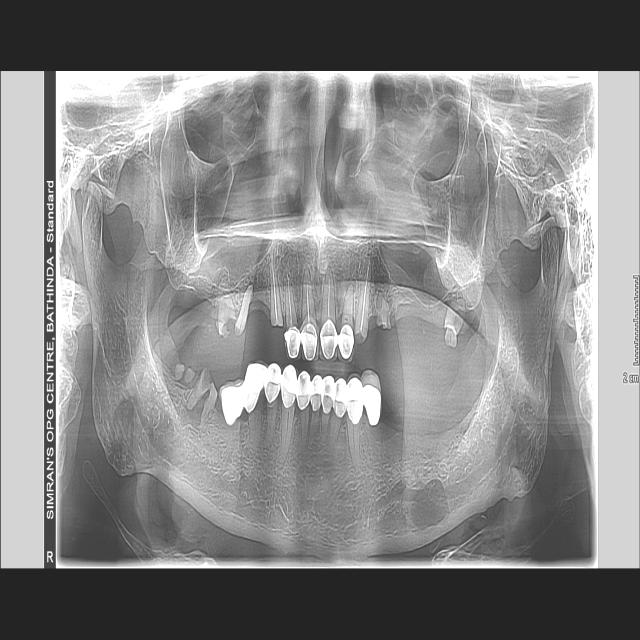Caries: (222, 318, 236, 339)
Crown: (362, 369, 382, 426), (244, 362, 266, 413), (220, 381, 245, 425), (347, 373, 363, 425), (320, 319, 338, 363), (264, 362, 282, 404), (281, 364, 297, 408), (302, 323, 319, 361), (338, 325, 354, 364), (296, 371, 311, 411), (284, 326, 301, 360), (321, 375, 335, 415), (334, 376, 346, 417), (310, 375, 322, 411)
Root Canal Treatment: (359, 260, 370, 331), (287, 273, 293, 327), (306, 277, 311, 326), (328, 277, 330, 319)
Root Piece: (444, 297, 466, 347), (186, 369, 211, 411), (270, 260, 284, 327), (235, 285, 252, 335), (201, 381, 218, 423), (376, 291, 391, 329), (174, 362, 185, 381), (184, 367, 195, 383)
